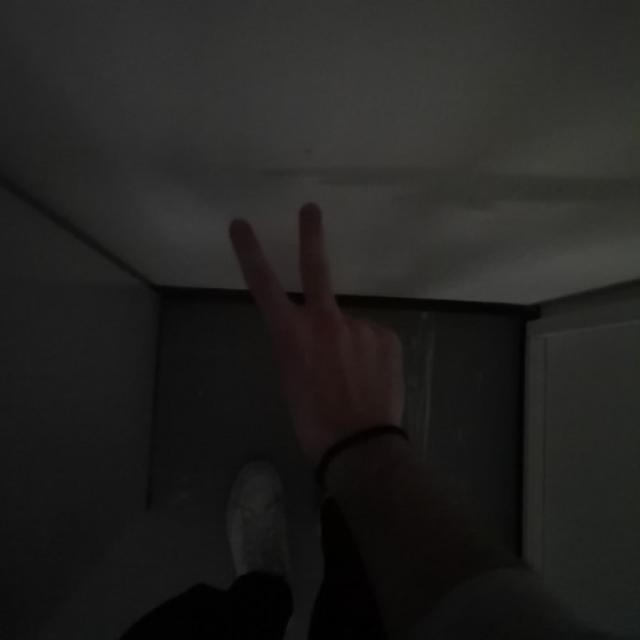scissors: (226, 202, 406, 438)
